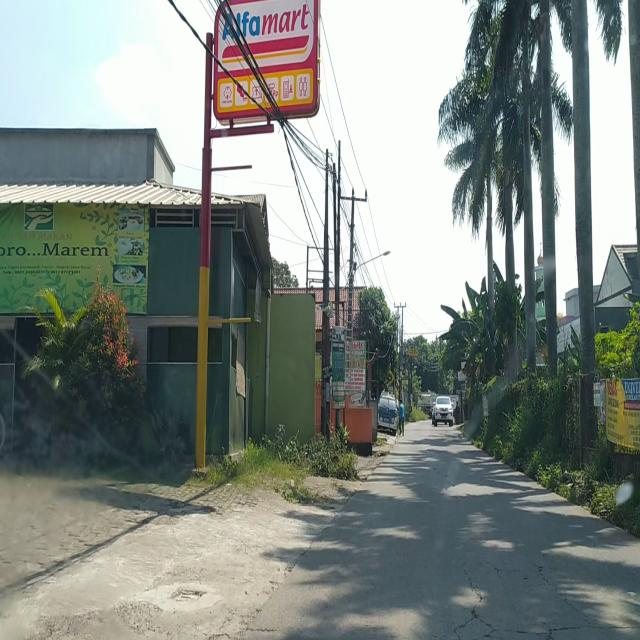Drain Hole: (449, 549, 606, 640)
